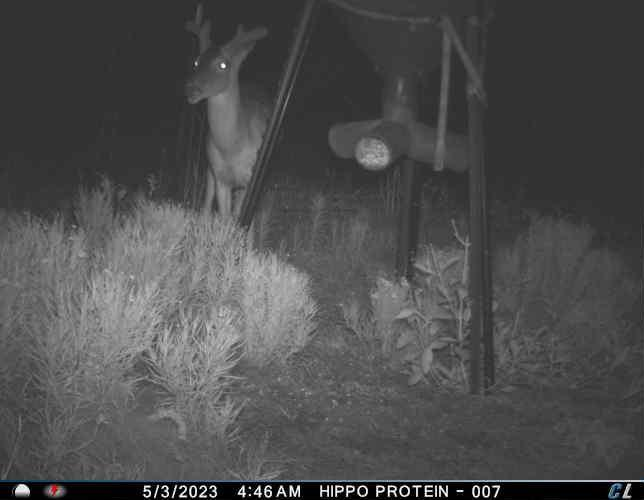Deer: (181, 0, 275, 228)
